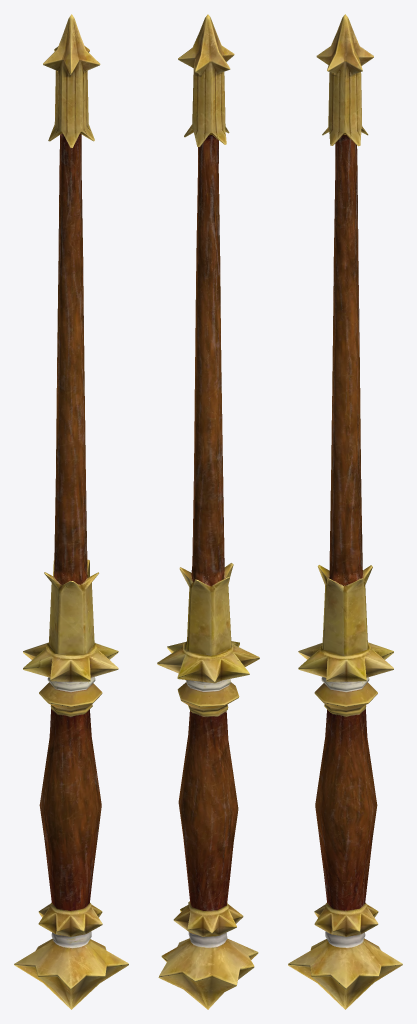
3 views of the same model, side by side, from view 1: azimuth 90°, elevation 25°; view 2: azimuth 210°, elevation 25°; view 3: azimuth 270°, elevation 25° (orthographic).
Parts seen in each view (by area): view 1: SM_Wand_Master_1H_01_LOD0; view 2: SM_Wand_Master_1H_01_LOD0; view 3: SM_Wand_Master_1H_01_LOD0.
Part boxes in pixels (box(x1,y1,x2,y2)): SM_Wand_Master_1H_01_LOD0: box(14, 14, 128, 1009); SM_Wand_Master_1H_01_LOD0: box(157, 14, 259, 1009); SM_Wand_Master_1H_01_LOD0: box(288, 14, 402, 1009).
Bounding box in the file's own units: 0.0784 × 0.7484 × 0.0782.
1 material, 1 textured.
